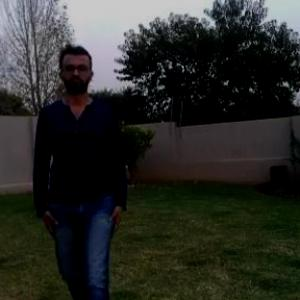follow: (38, 48, 121, 299)
